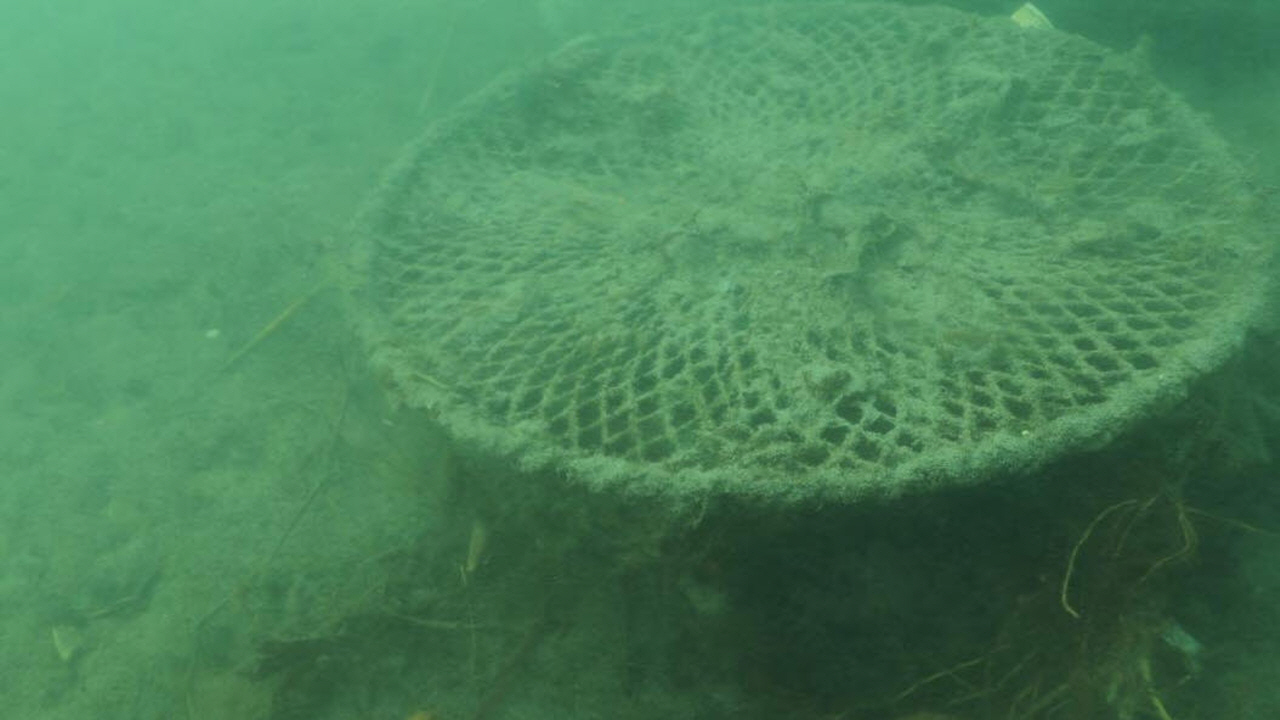circular fish trap: (350, 0, 1263, 501)
